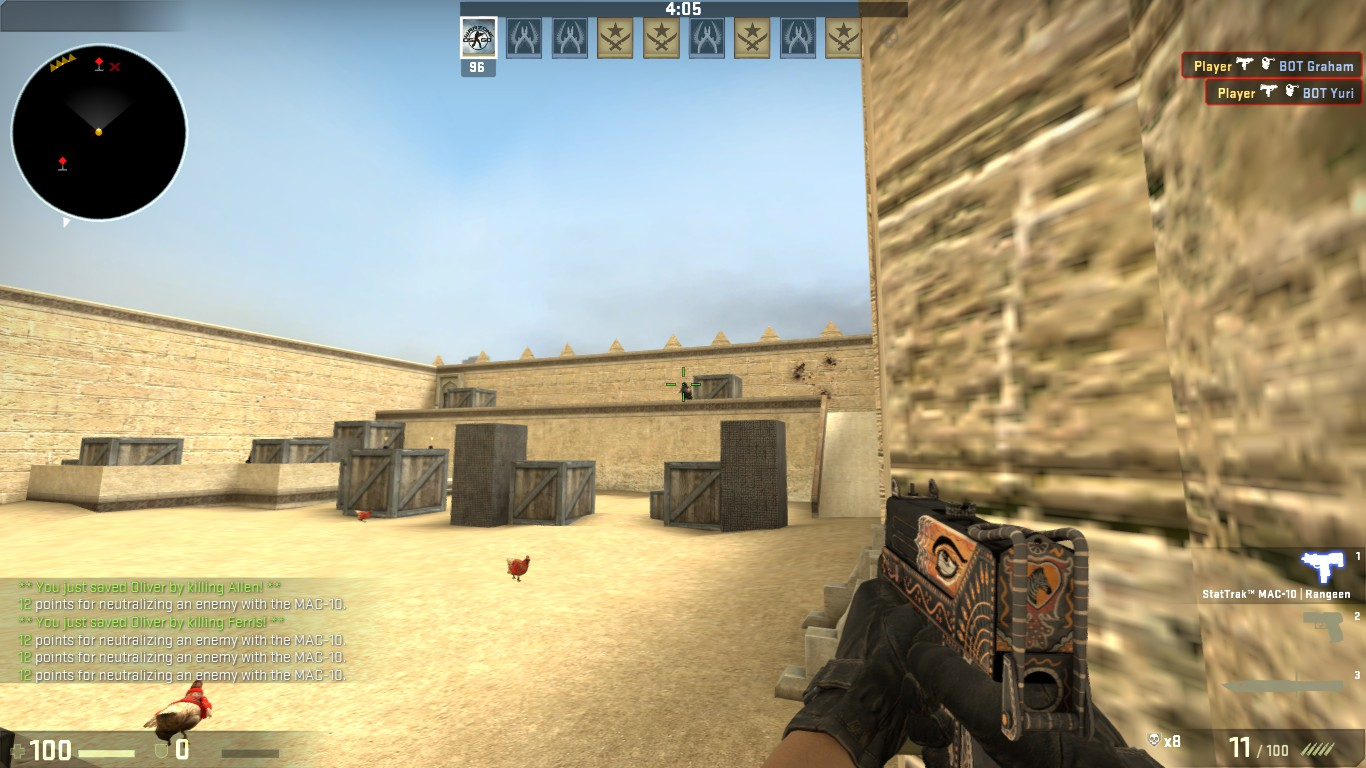c: (679, 381, 693, 400)
ch: (681, 381, 688, 389)
